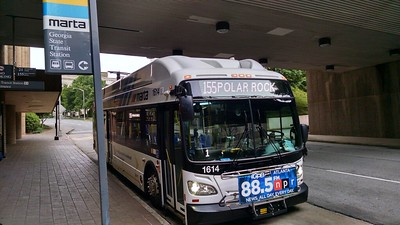bus: (93, 55, 309, 225)
